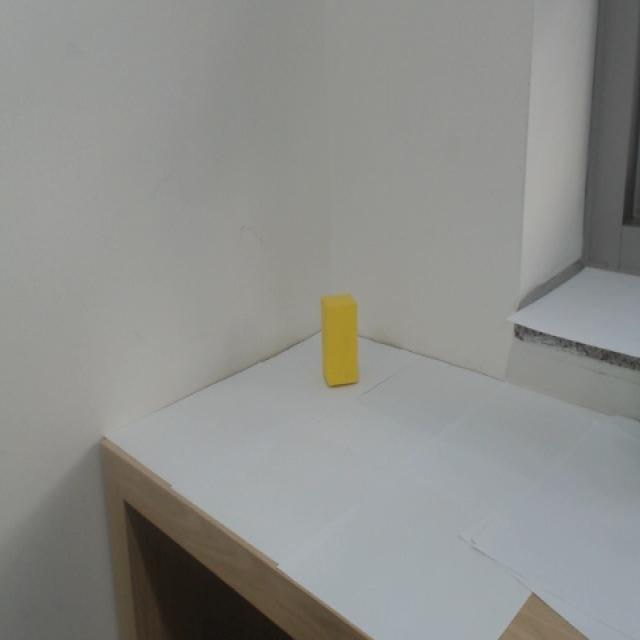cube: (309, 290, 371, 411)
